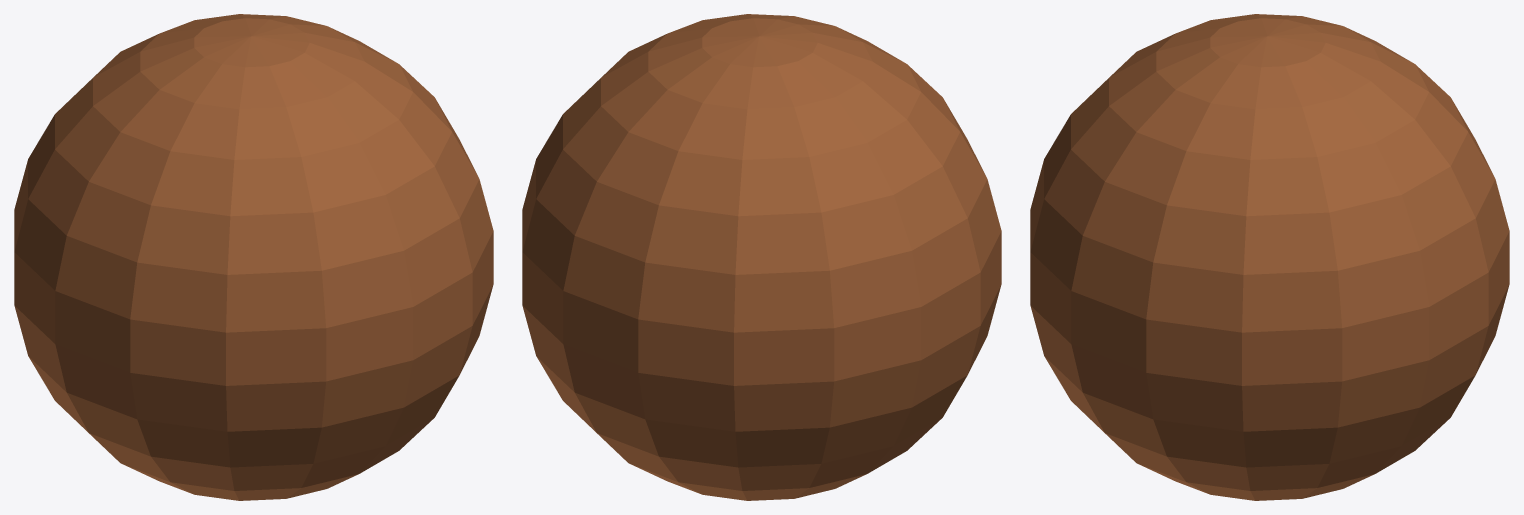
File: Item_Orange.fbx
The picture shows the model from 3 angles, left to right: view 1: azimuth 30°, elevation 25°; view 2: azimuth 150°, elevation 25°; view 3: azimuth 270°, elevation 25°; orthographic projection.
Parts seen in each view (by area): view 1: Sphere; view 2: Sphere; view 3: Sphere.
Boxes of the visible parts, left/top/right/bottom form: Sphere: left=14, top=14, right=493, bottom=500; Sphere: left=522, top=14, right=1001, bottom=500; Sphere: left=1030, top=14, right=1509, bottom=500.
Bounding box in the file's own units: 197 × 200 × 196.
